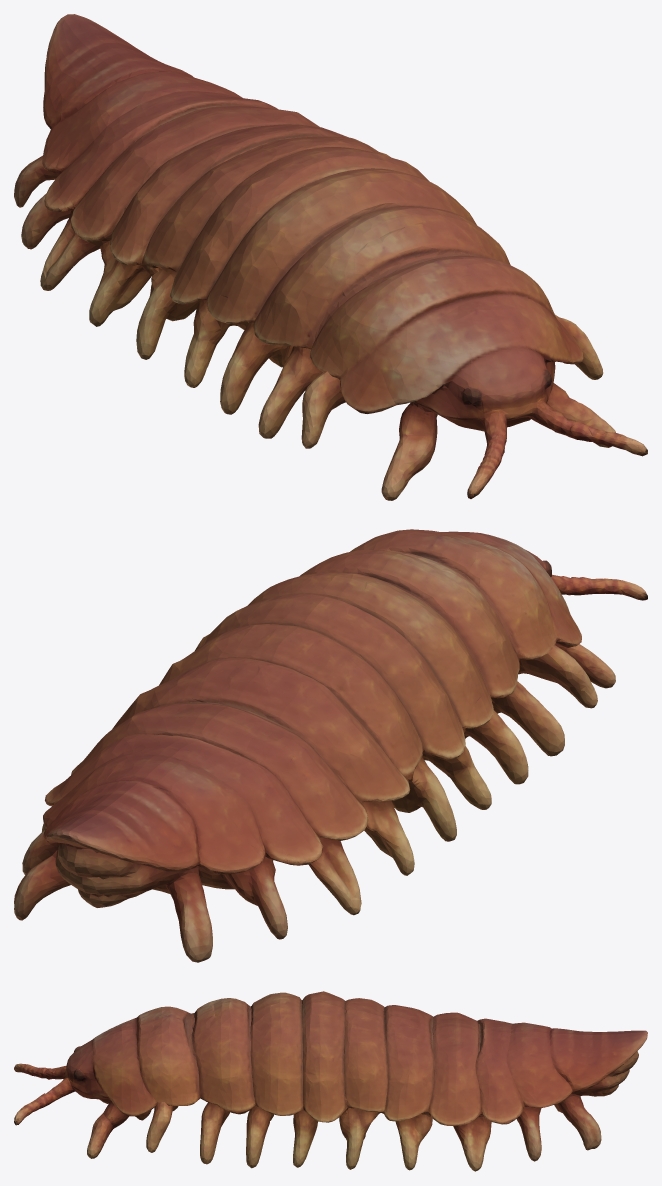
3 renders of one model, top to bottom at view 1: azimuth 30°, elevation 25°; view 2: azimuth 150°, elevation 25°; view 3: azimuth 270°, elevation 25°, orthographic. The views are drawn at different scales.
Visible parts, largest first — view 1: geometry_0; view 2: geometry_0; view 3: geometry_0.
Boxes of the visible parts, <box> form: geometry_0: <box>14,14,647,500</box>; geometry_0: <box>14,529,647,962</box>; geometry_0: <box>14,991,647,1171</box>.
Size of the model in its own units: 0.00763 by 0.00426 by 0.02.
1 material, 1 textured.
